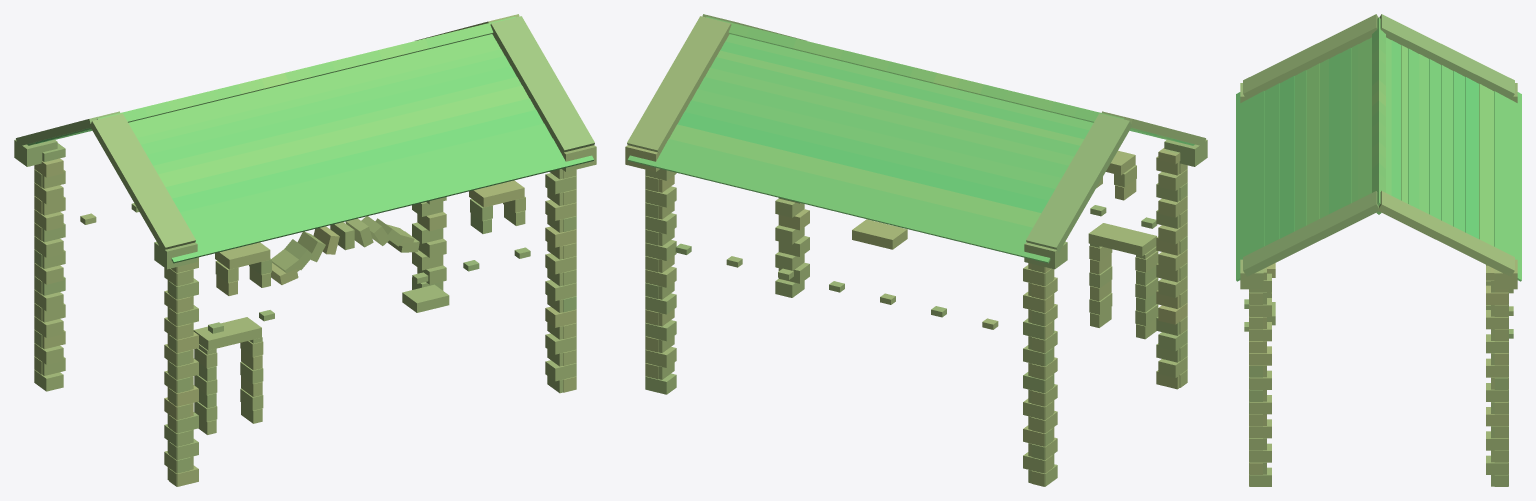
File: SM_Bld_238_Stone.glb
3 views of the same model, side by side, from view 1: azimuth 30°, elevation 25°; view 2: azimuth 150°, elevation 25°; view 3: azimuth 270°, elevation 25° (orthographic). The views are drawn at different scales.
Parts seen in each view (by area): view 1: SM_Bld_238_Stone; view 2: SM_Bld_238_Stone; view 3: SM_Bld_238_Stone.
Part boxes in pixels (<box>): SM_Bld_238_Stone: <box>14,14,596,486</box>; SM_Bld_238_Stone: <box>625,14,1207,486</box>; SM_Bld_238_Stone: <box>1236,14,1521,486</box>.
Bounding box in the file's own units: 10.09 × 7.15 × 6.4.
